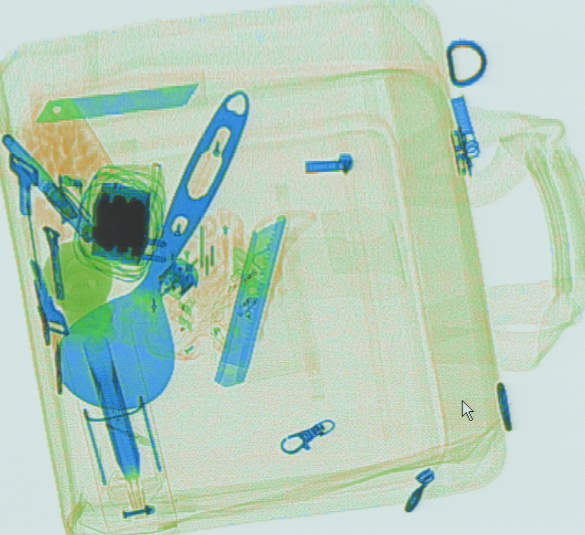knife: (212, 206, 316, 386), (29, 69, 208, 126)
